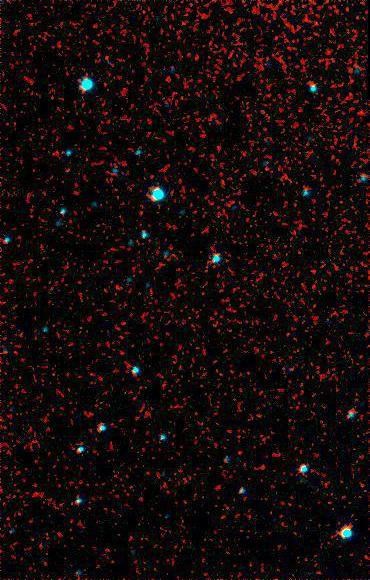star: (59, 157, 89, 187)
